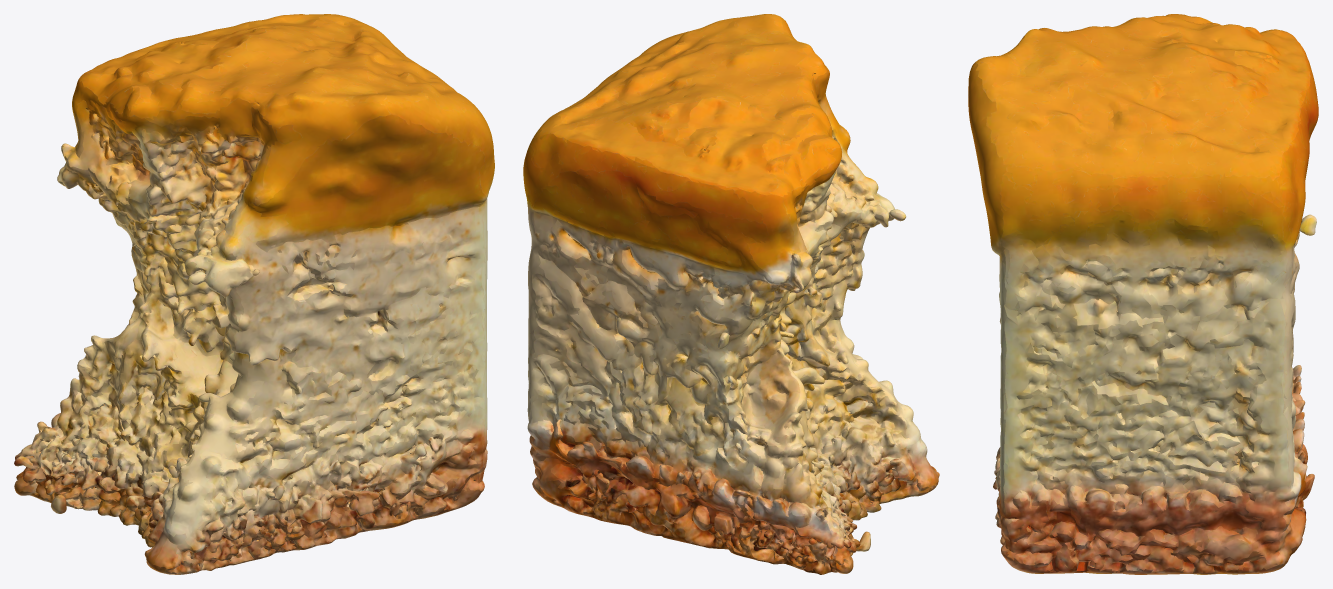
File: mango-cheesecake-3.glb
3 views of the same model, side by side, from view 1: azimuth 30°, elevation 25°; view 2: azimuth 150°, elevation 25°; view 3: azimuth 270°, elevation 25° (orthographic). The views are drawn at different scales.
Parts seen in each view (by area): view 1: FoodRedoV2Alignment-0; view 2: FoodRedoV2Alignment-0; view 3: FoodRedoV2Alignment-0.
Boxes of the visible parts, x1,y1,x2,y2 form: FoodRedoV2Alignment-0: (14,14,494,574); FoodRedoV2Alignment-0: (523,14,939,574); FoodRedoV2Alignment-0: (968,14,1318,574).
Size of the model in its own units: 0.0612 by 0.074 by 0.0504.
1 material, 1 textured.
